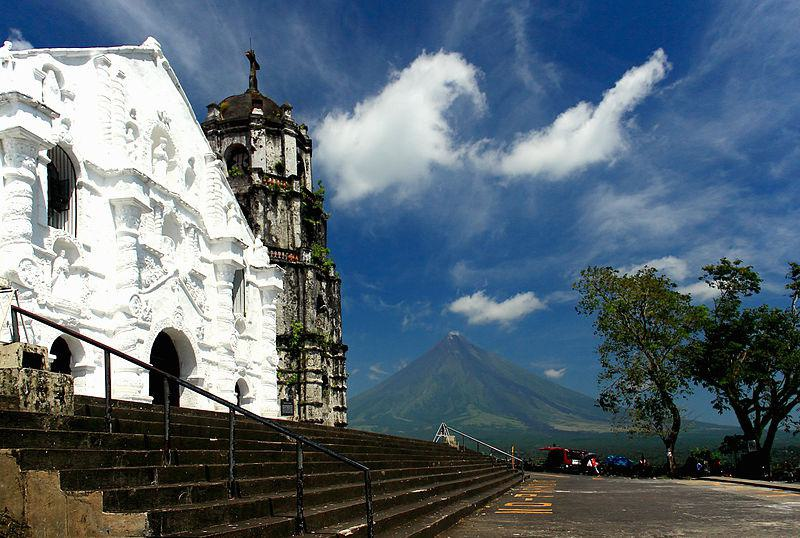daraga_church_daraga_albay: (1, 30, 350, 427)
vegetation_damage: (284, 318, 307, 350), (312, 179, 330, 216), (308, 240, 328, 261), (227, 163, 248, 181), (283, 370, 301, 390)
